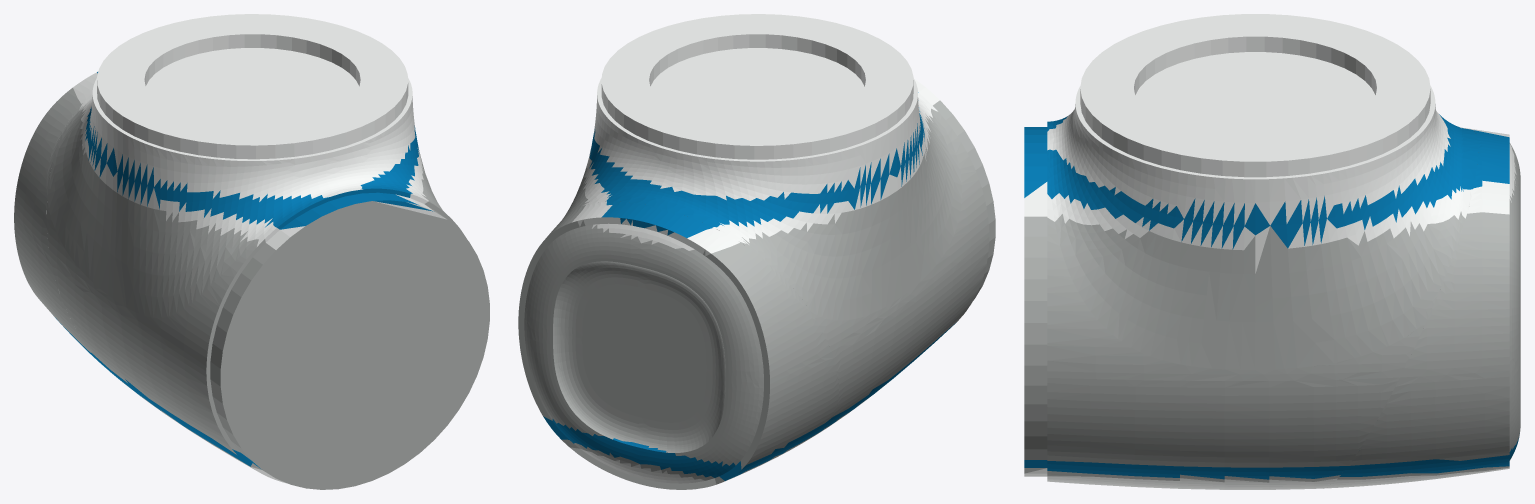
File: DobotCR16Link1.dae
3 renders of one model, left to right at view 1: azimuth 30°, elevation 25°; view 2: azimuth 150°, elevation 25°; view 3: azimuth 270°, elevation 25°, orthographic. The views are drawn at different scales.
Visible parts, largest first — view 1: DobotCR16Link1; view 2: DobotCR16Link1; view 3: DobotCR16Link1.
Part boxes in pixels (bbox=[...]): DobotCR16Link1: bbox=[14, 14, 489, 489]; DobotCR16Link1: bbox=[518, 14, 995, 489]; DobotCR16Link1: bbox=[1024, 14, 1520, 489].
Bounding box in the file's own units: 0.1545 × 0.204 × 0.1742.
